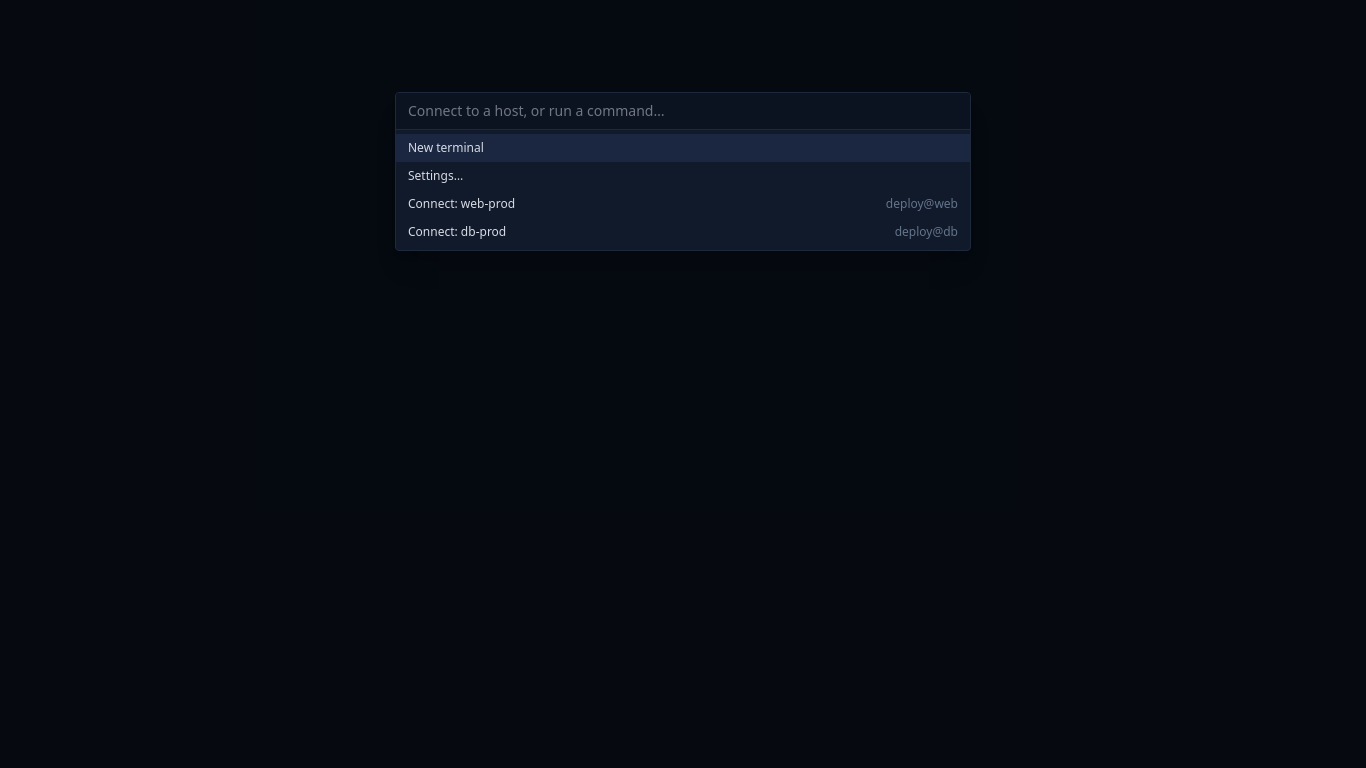
CommandPalette › matches a host by its hidden keywords
The width and height of the screenshot is (1366, 768).
Type "example" into the field named "Search commands" at (683, 112), box top-left (396, 93), bottom-right (970, 130)
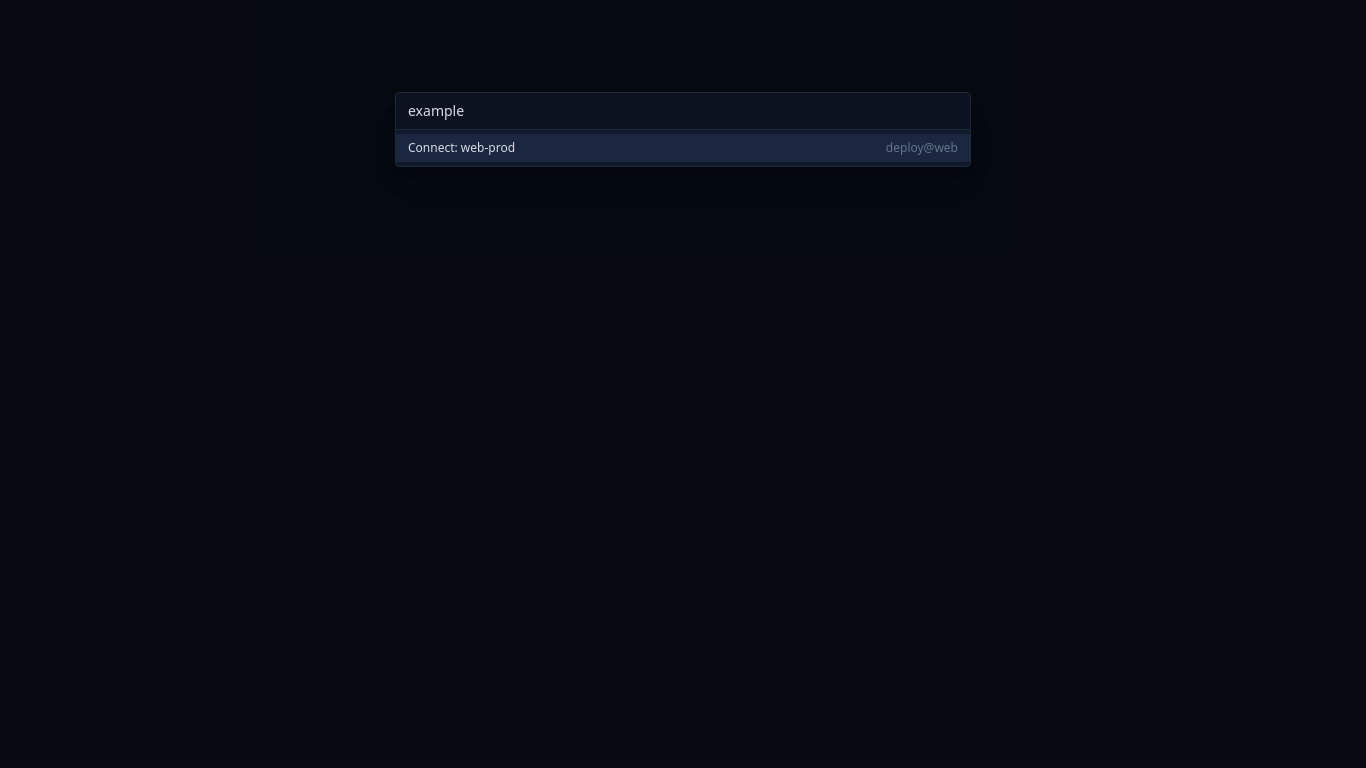
Expected: the text "Connect: web-prod" is shown, top-left (408, 140), bottom-right (515, 156)
Result: the option "Connect: db-prod" is gone
